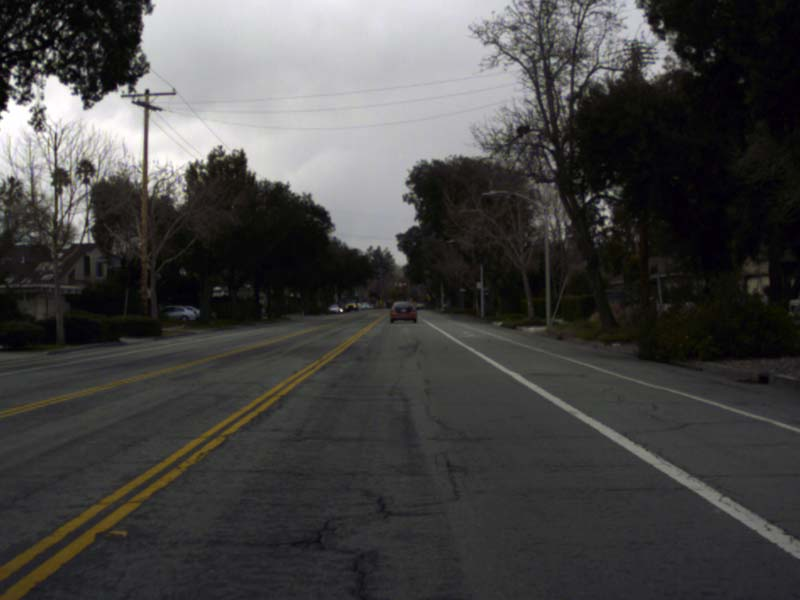Green: (354, 289, 358, 296)
Red: (403, 282, 405, 288), (390, 282, 392, 287)
